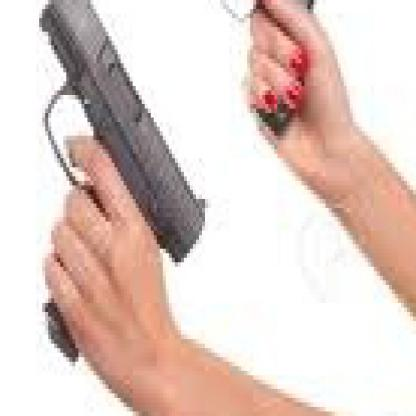gun: (24, 0, 211, 371), (187, 0, 322, 131)
